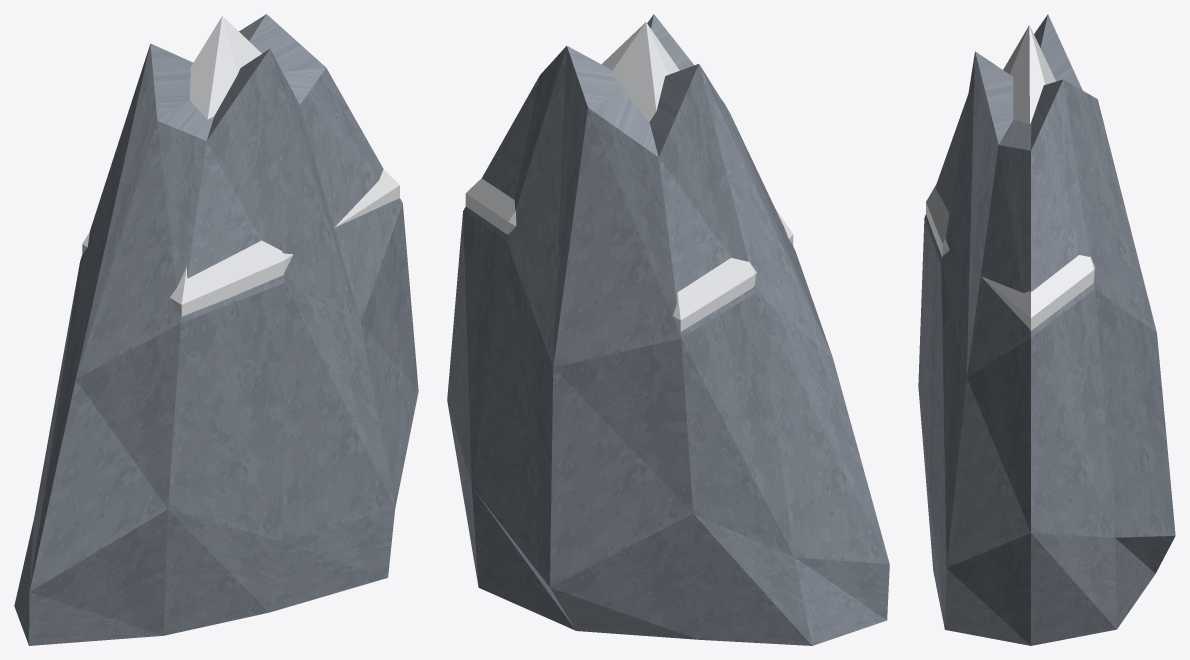
The model's file is rock_face_snow.glb.
3 renders of one model, left to right at view 1: azimuth 30°, elevation 25°; view 2: azimuth 150°, elevation 25°; view 3: azimuth 270°, elevation 25°, orthographic. The views are drawn at different scales.
Parts seen in each view (by area): view 1: canonical_base, snow_accumulation; view 2: canonical_base, snow_accumulation; view 3: canonical_base, snow_accumulation.
Boxes of the visible parts, x1,y1,x2,y2 form: canonical_base: (14, 14, 418, 645); snow_accumulation: (82, 16, 399, 316); canonical_base: (447, 14, 889, 645); snow_accumulation: (465, 22, 793, 331); canonical_base: (918, 14, 1175, 645); snow_accumulation: (926, 25, 1095, 330).
Size of the model in its own units: 4 by 5.16 by 2.2.
Materials: 2 (1 with a texture image).
